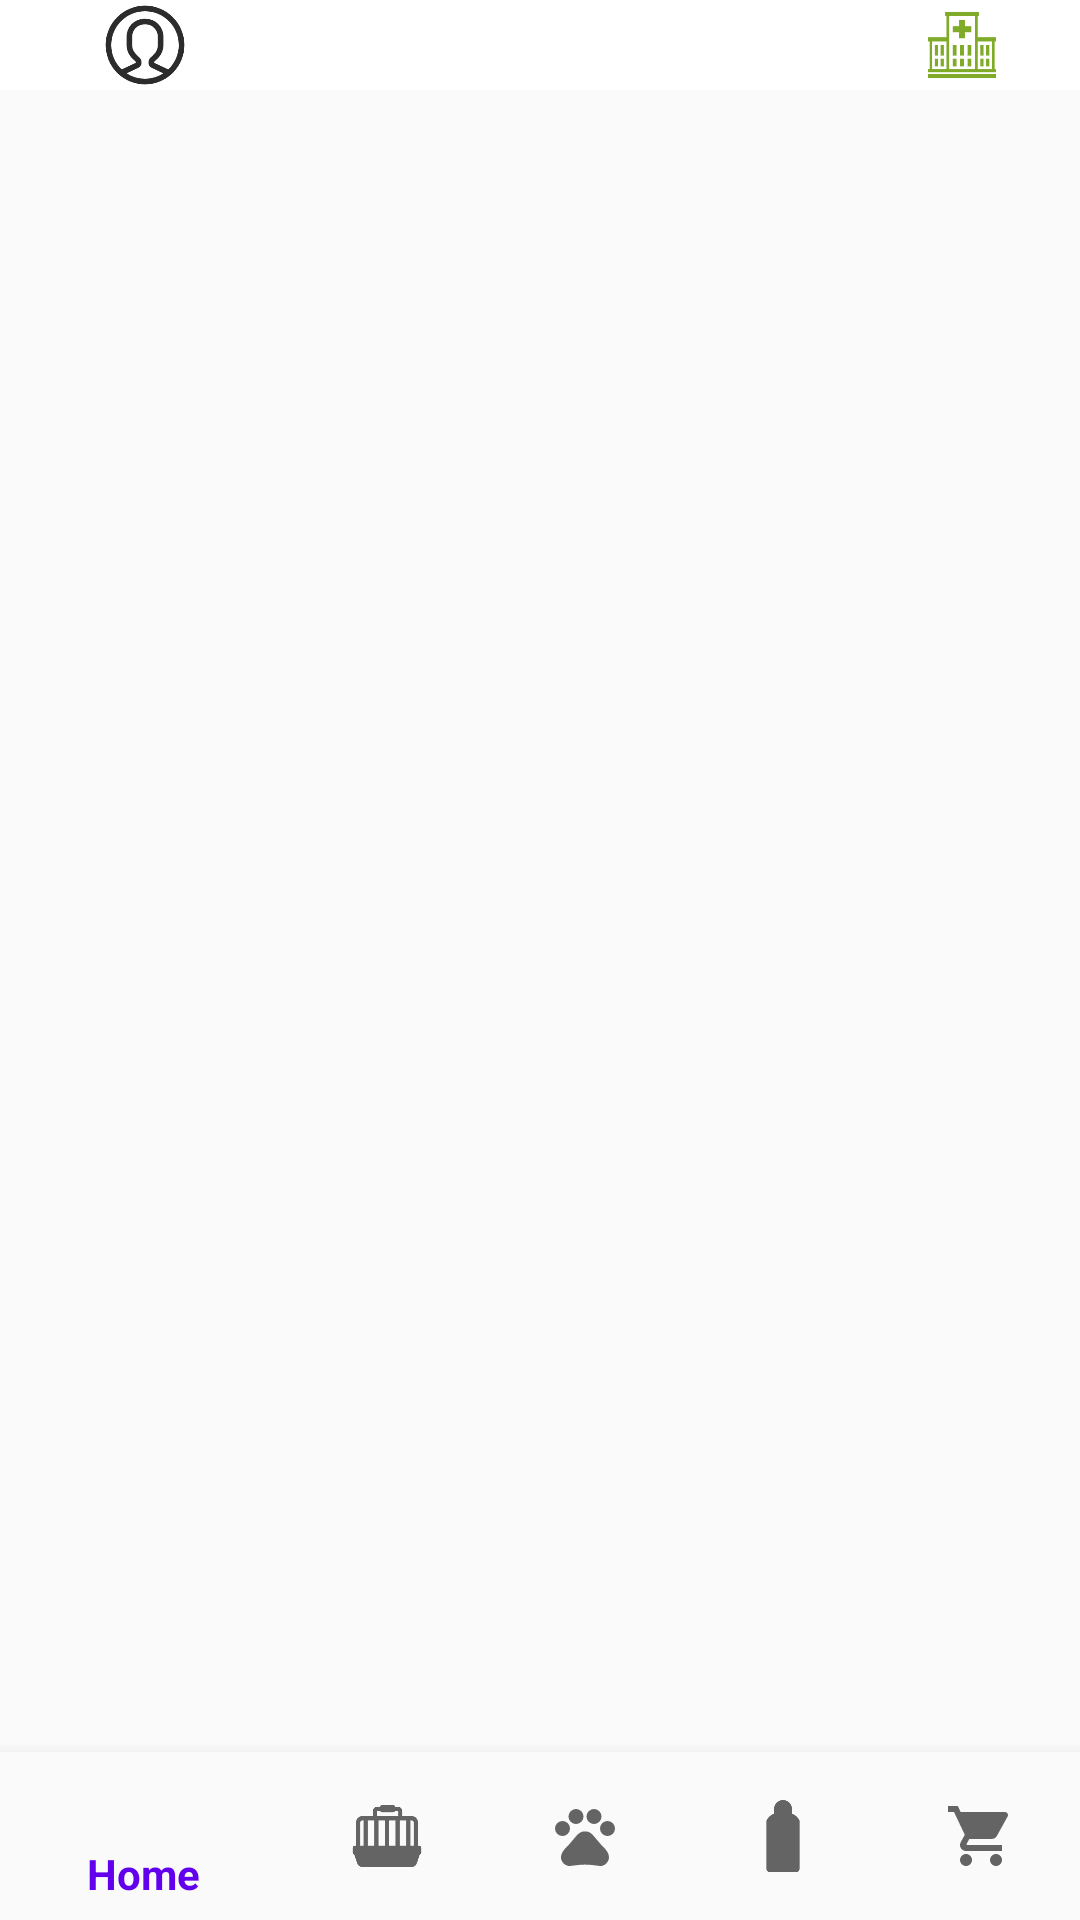

Where to tap for icons on this 1080px×1920px app screen, as (x=x, y=y):
medical: (x=962, y=45)
personal: (x=145, y=45)
